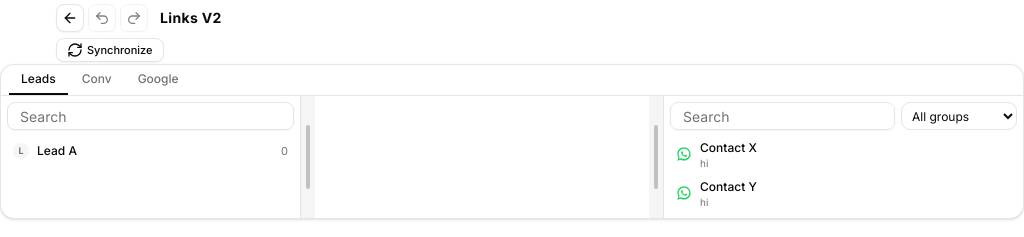
Test case: Links V2 — Search + Group in one row › search and group filter both apply together (client-side)
Expected: the text "Lead A" is shown, top-left (37, 143), bottom-right (77, 158)
Expected: the text "Contact X" is shown, top-left (700, 140), bottom-right (757, 155)
Type "Contact" into the 2nd field with placeholder "Search" at (782, 116), box top-left (670, 102), bottom-right (895, 130)
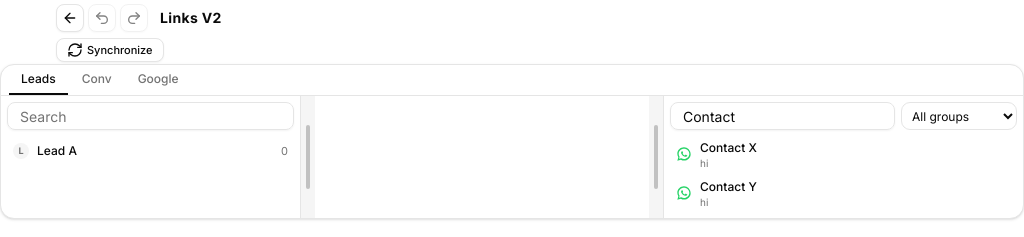
Expected: the text "Contact X" is shown, top-left (700, 140), bottom-right (757, 155)
Expected: the text "Contact Y" is shown, top-left (700, 179), bottom-right (757, 194)
Replace the text in the field with placeholder "Search" with "Y" at (782, 116), box top-left (670, 102), bottom-right (895, 130)
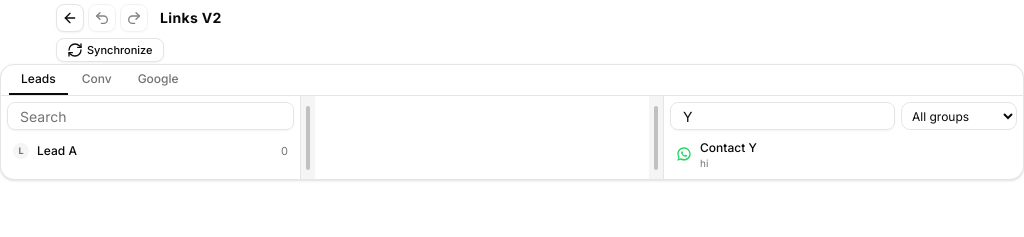
Expected: the text "Contact Y" is shown, top-left (700, 140), bottom-right (757, 155)
Result: the text "Contact X" is gone
